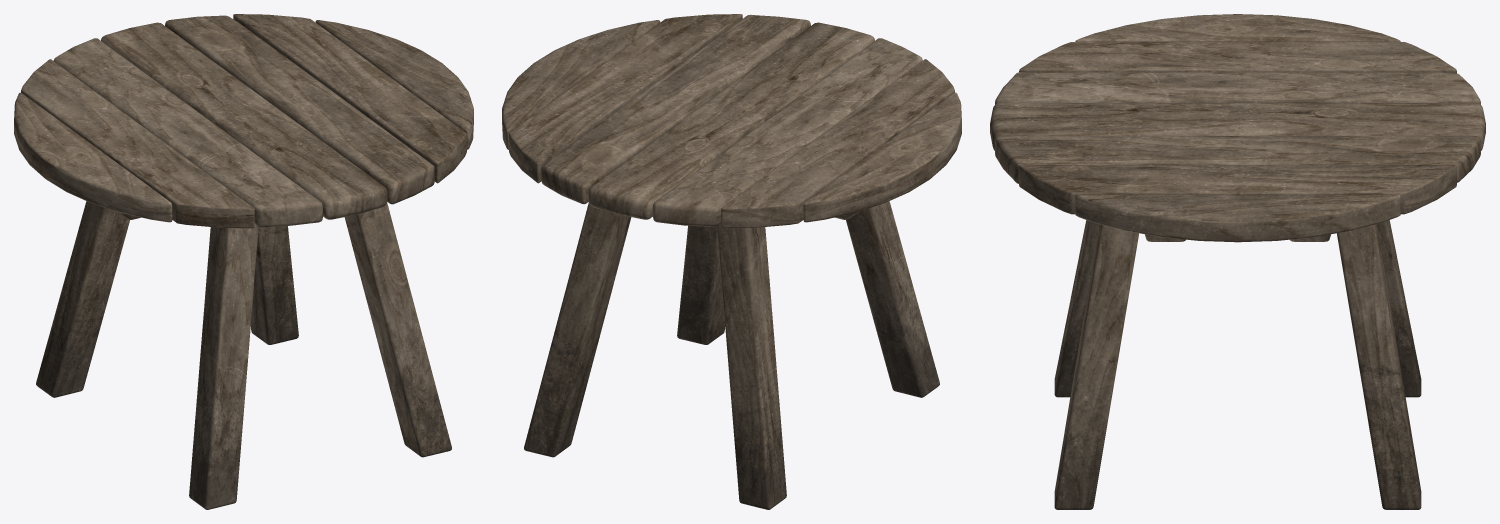
The model's file is round_table.glb.
3 views of the same model, side by side, from view 1: azimuth 30°, elevation 25°; view 2: azimuth 150°, elevation 25°; view 3: azimuth 270°, elevation 25° (orthographic). The views are drawn at different scales.
Visible parts, largest first — view 1: RoundTableA; view 2: RoundTableA; view 3: RoundTableA.
Boxes of the visible parts, x1,y1,x2,y2 form: RoundTableA: (14, 14, 473, 509); RoundTableA: (502, 14, 961, 509); RoundTableA: (990, 14, 1485, 509).
Size of the model in its own units: 99.51 by 73.53 by 100.
Materials: 2 (2 with a texture image).
